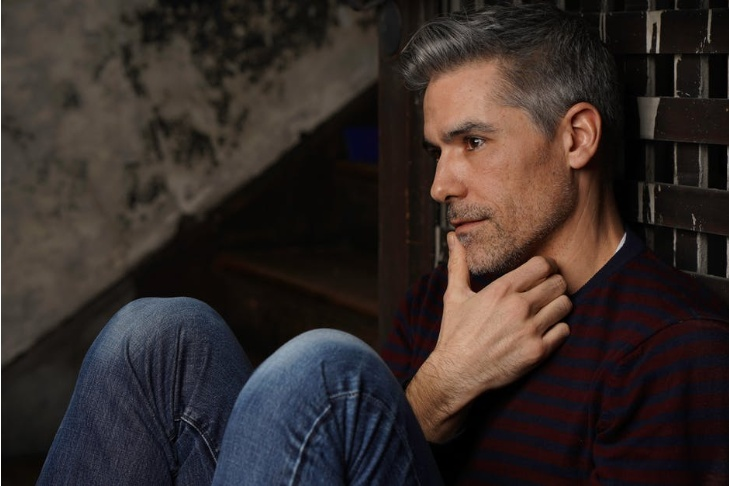face: (422, 70, 556, 274)
